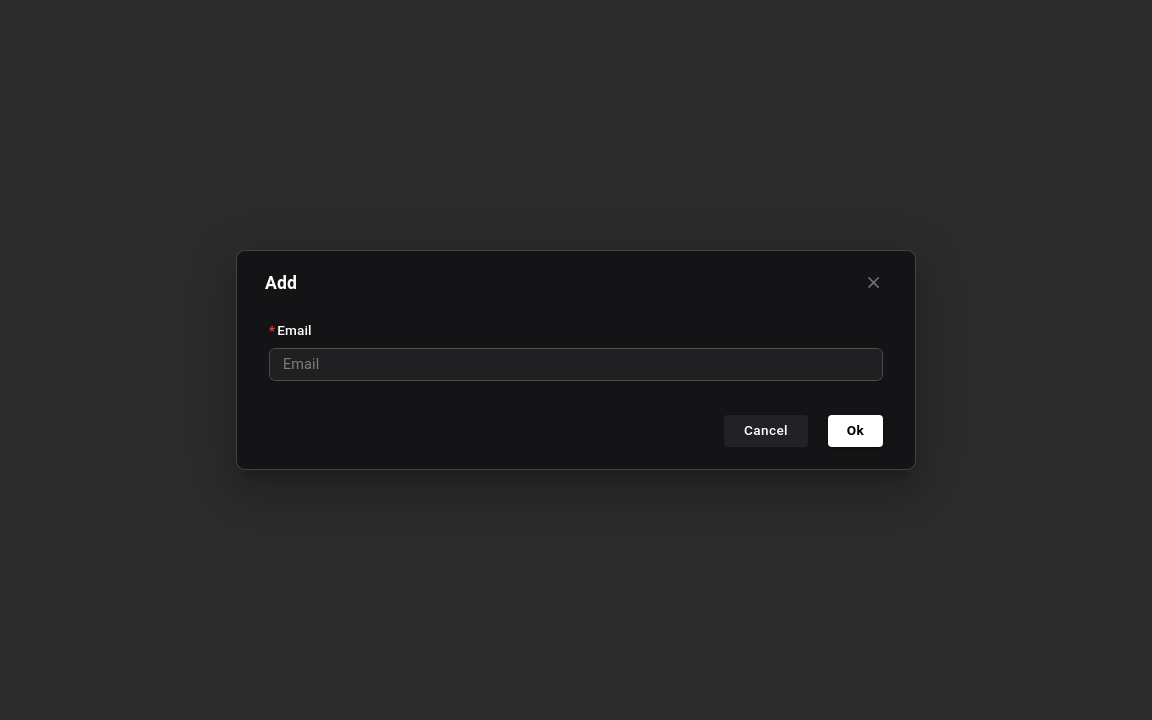
Test: InviteMemberModal Component › should display an error validation message for poorly formatted email schemas
Type "malformed_email_format" into the field with placeholder "Email" at (576, 365), box x1=269 y1=338 x2=883 y2=392
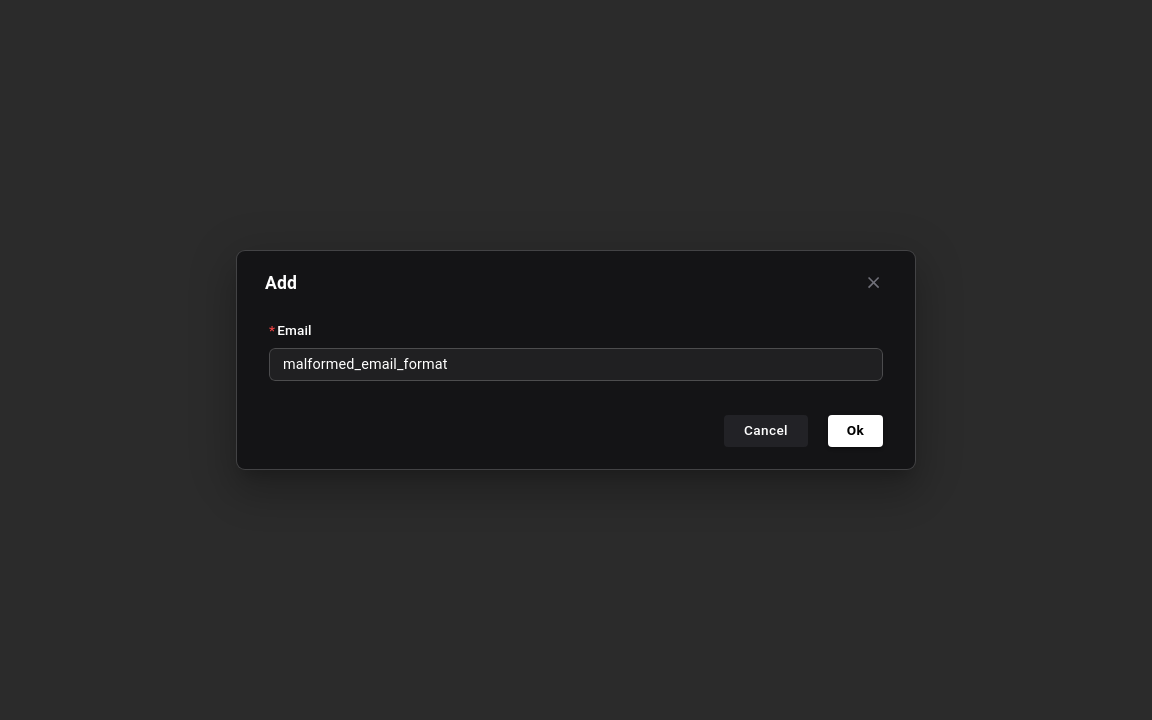
Click the button "Ok" at (856, 431), box x1=828 y1=415 x2=883 y2=447
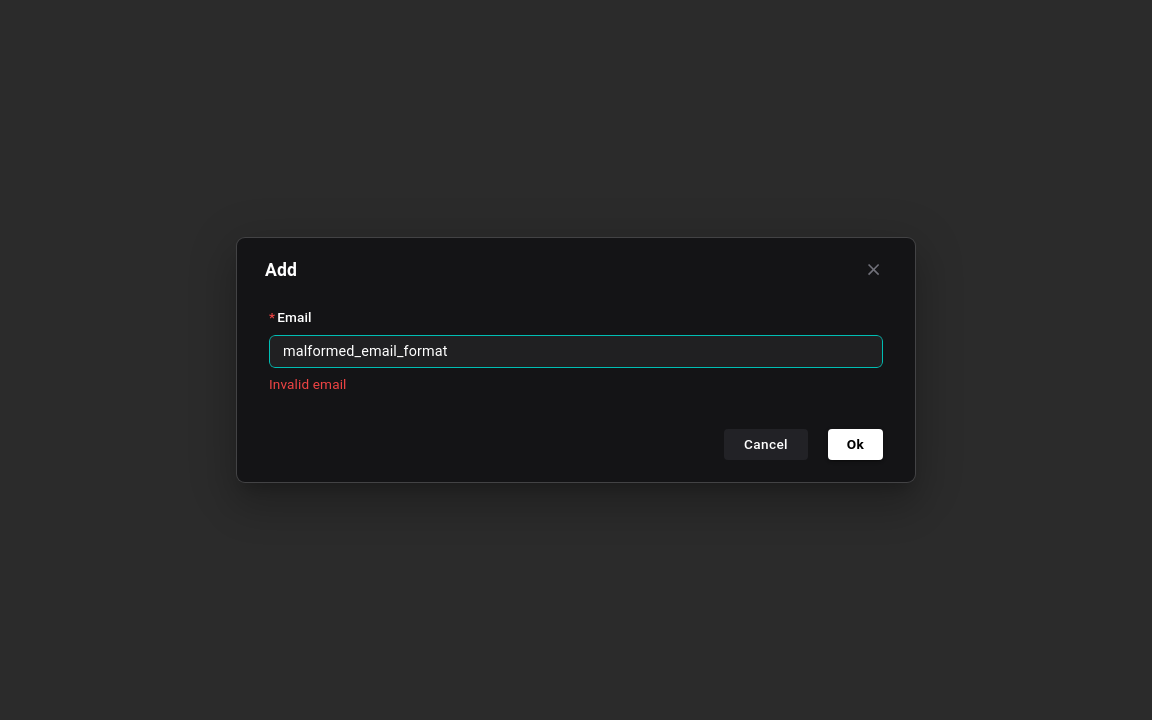
Expected: the text "Invalid email" is shown, x1=269 y1=376 x2=346 y2=392
